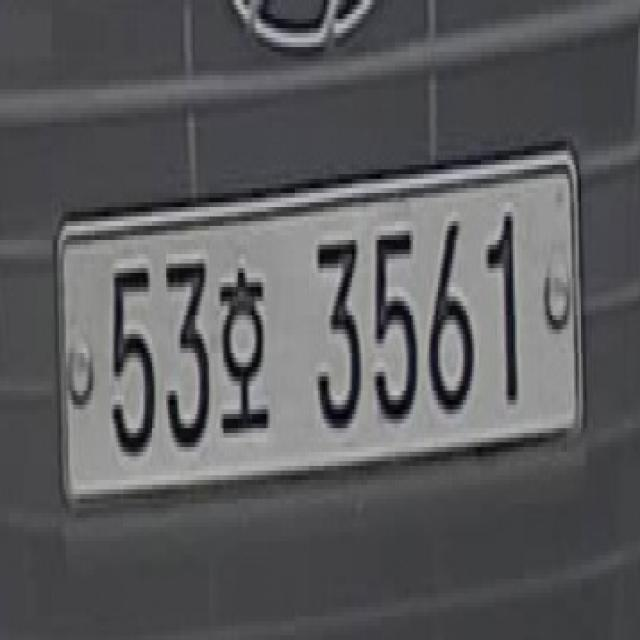1: (488, 207, 533, 400)
3: (309, 212, 365, 442), (165, 250, 209, 470)
5: (104, 244, 161, 470), (372, 226, 425, 438)
6: (422, 207, 477, 452)
ho: (209, 249, 275, 447)
license_plate: (59, 150, 585, 522)
